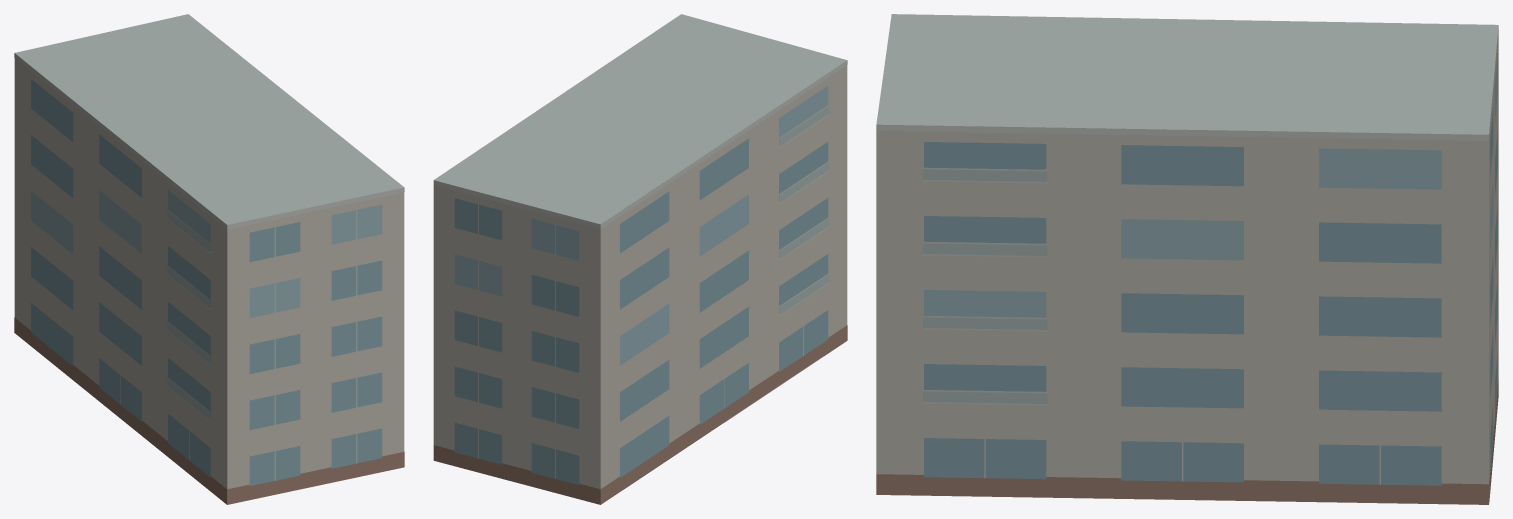
File: survey-upis-32653459.glb
3 renders of one model, left to right at view 1: azimuth 30°, elevation 25°; view 2: azimuth 150°, elevation 25°; view 3: azimuth 270°, elevation 25°, orthographic. The views are drawn at different scales.
Visible parts, largest first — view 1: survey-upis-32653459.tmp; view 2: survey-upis-32653459.tmp; view 3: survey-upis-32653459.tmp.
Boxes of the visible parts, <box> form: survey-upis-32653459.tmp: <box>14,14,404,504</box>; survey-upis-32653459.tmp: <box>433,14,847,504</box>; survey-upis-32653459.tmp: <box>876,14,1498,504</box>.
Size of the model in its own units: 10.06 by 14.36 by 21.89.
